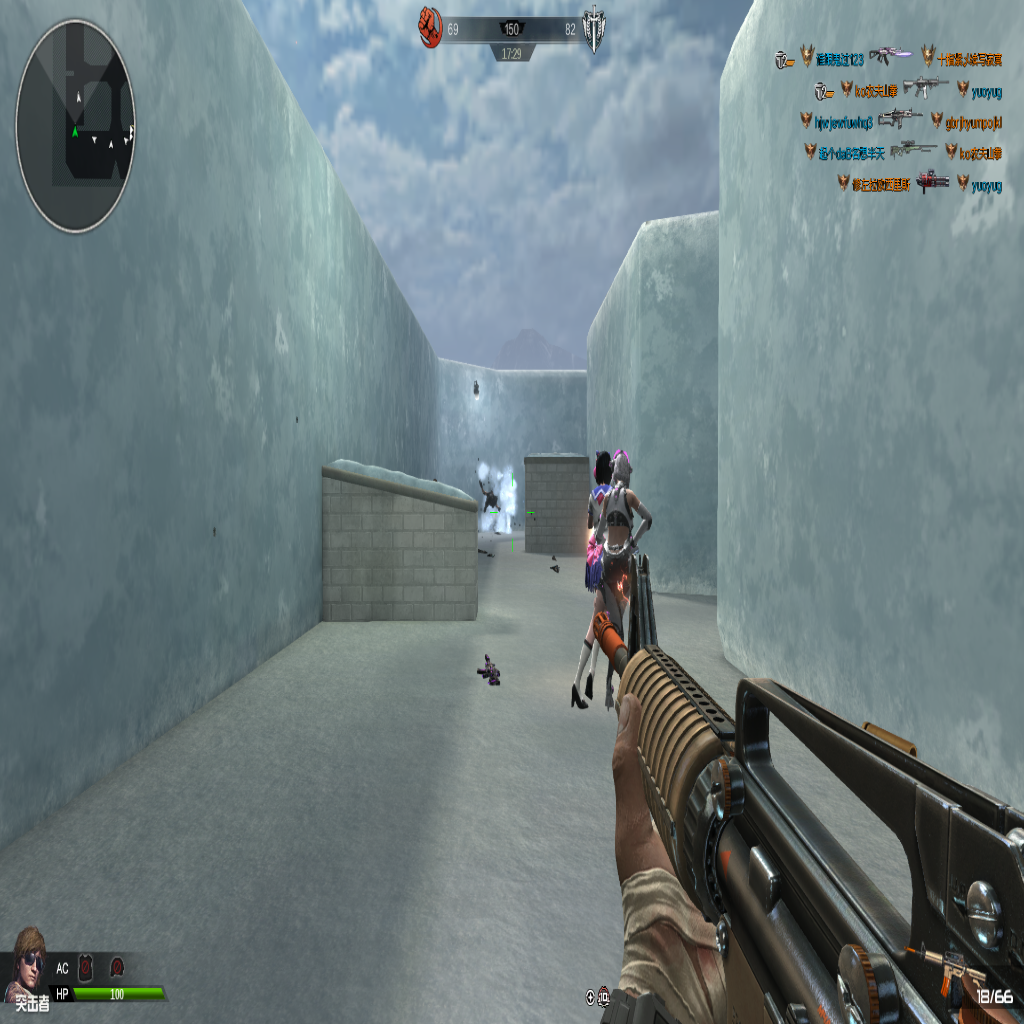tt: (578, 441, 652, 715)
